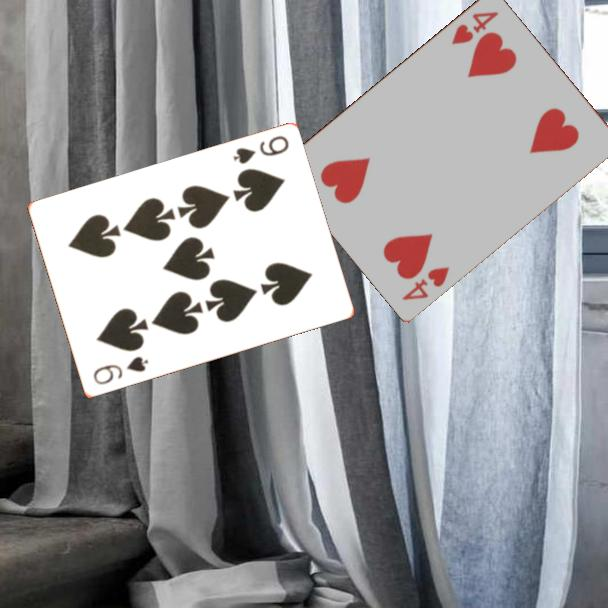h04: (398, 262, 453, 303), (448, 7, 502, 47)
s09: (229, 132, 292, 167), (89, 353, 151, 388)
